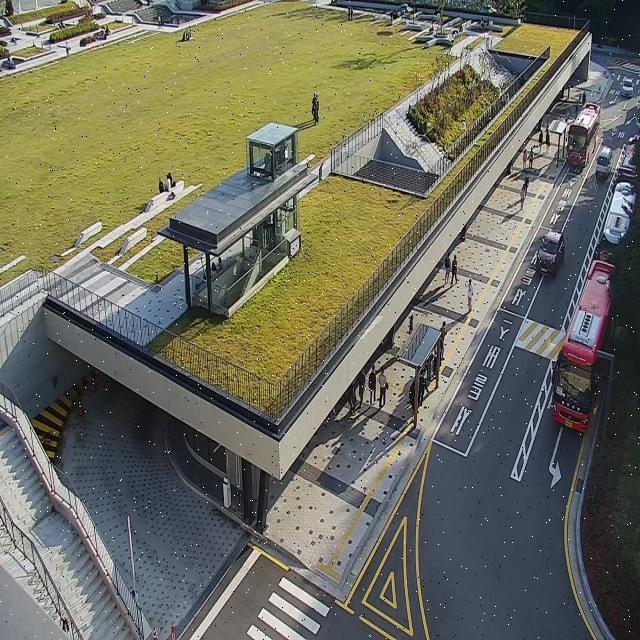queue: (416, 324, 446, 432)
